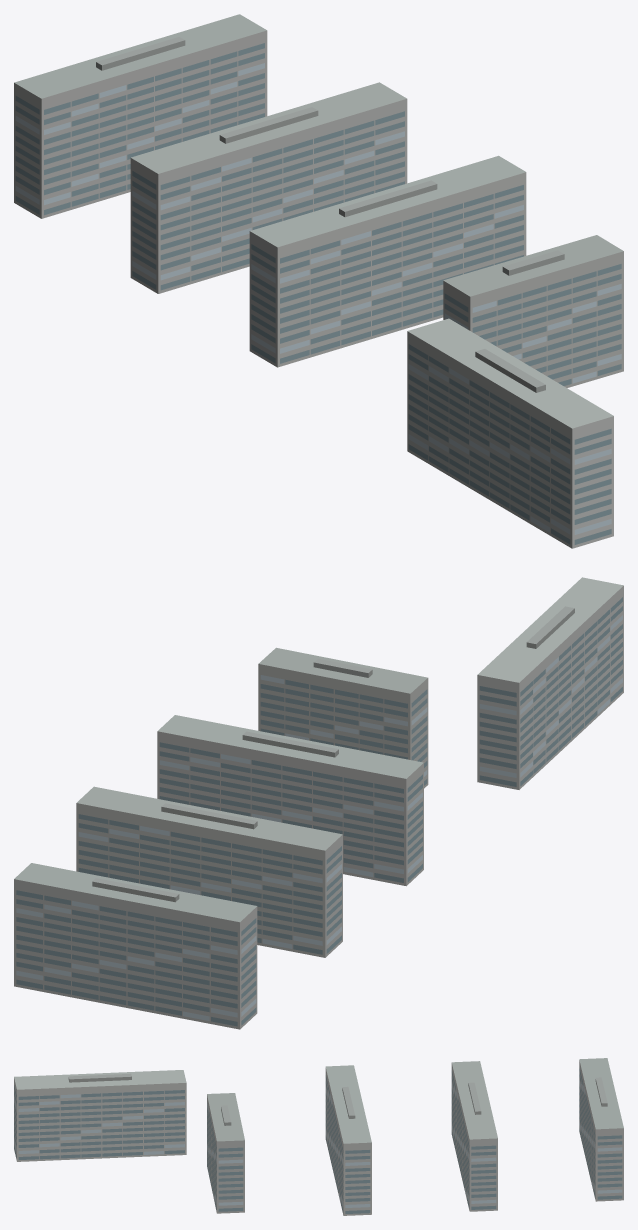
The model's file is apt-a14387605.glb.
The picture shows the model from 3 angles, top to bottom: view 1: azimuth 30°, elevation 25°; view 2: azimuth 150°, elevation 25°; view 3: azimuth 270°, elevation 25°; orthographic projection. The views are drawn at different scales.
Parts seen in each view (by area): view 1: apt-a14387605; view 2: apt-a14387605; view 3: apt-a14387605.
Part boxes in pixels (x1=…): apt-a14387605: x1=14, y1=14, x2=623, y2=548; apt-a14387605: x1=14, y1=577, x2=623, y2=1029; apt-a14387605: x1=14, y1=1058, x2=623, y2=1215.
Bounding box in the file's own units: 93.28 × 38.25 × 280.
